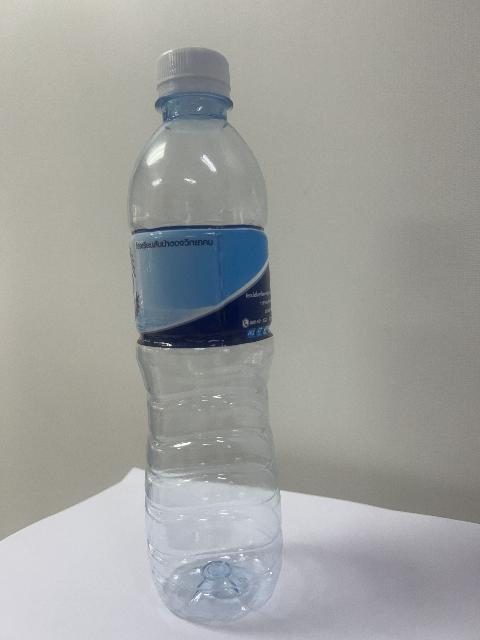bottle: (129, 48, 282, 623)
